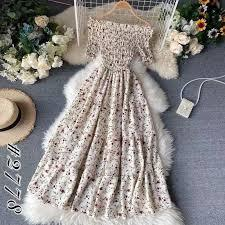dress: (38, 16, 169, 215)
